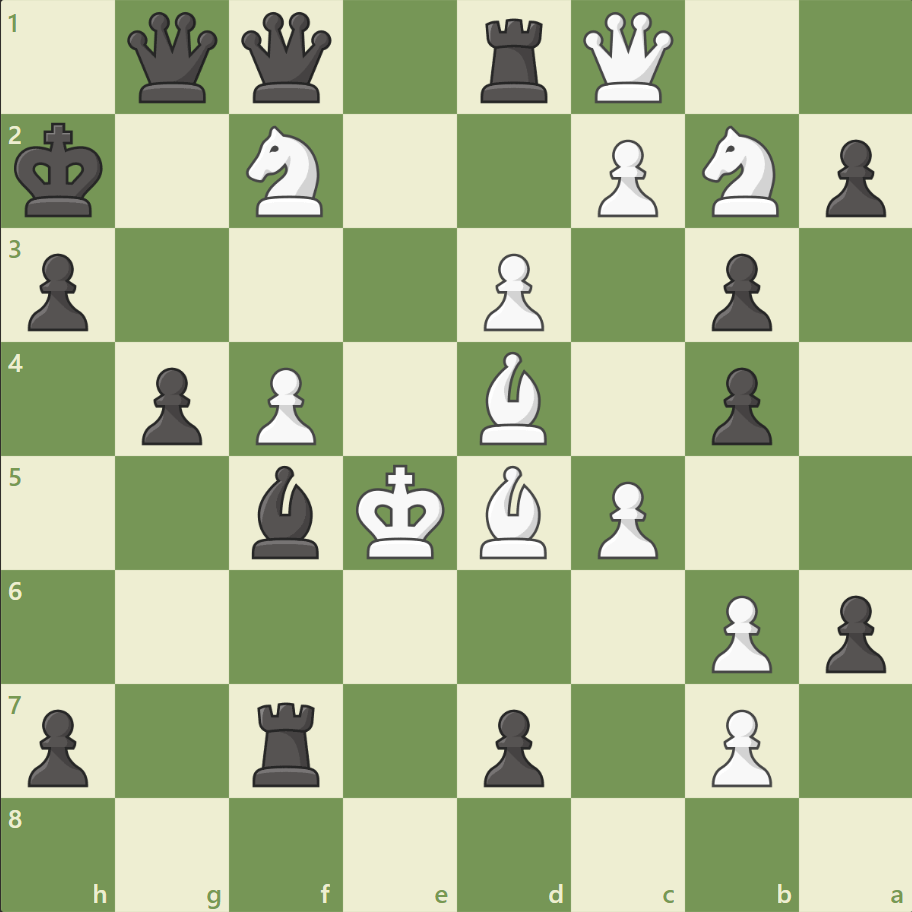B: (471, 460, 555, 563), (471, 347, 555, 449)
K: (351, 458, 451, 566)
N: (692, 121, 789, 223), (238, 121, 335, 223)
P: (701, 700, 776, 791), (701, 586, 776, 677), (247, 359, 322, 450), (474, 246, 549, 337), (588, 473, 662, 564), (588, 132, 662, 223)
Q: (578, 9, 677, 108)
b: (244, 460, 328, 563)
k: (11, 117, 111, 225)
p: (474, 700, 549, 791), (20, 700, 95, 791), (701, 359, 776, 450), (133, 359, 208, 450), (701, 246, 776, 337), (20, 246, 95, 337), (815, 586, 889, 677), (815, 132, 889, 223)
q: (237, 9, 336, 108), (124, 9, 223, 108)
r: (246, 693, 329, 790), (473, 12, 556, 109)
